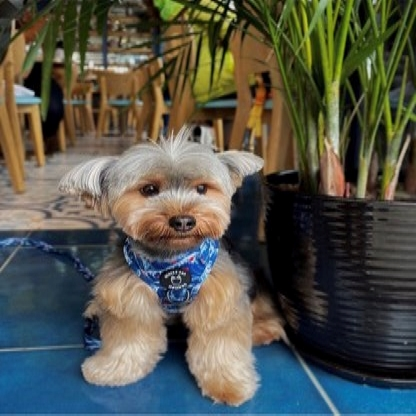yorkshire: (56, 129, 287, 405)
